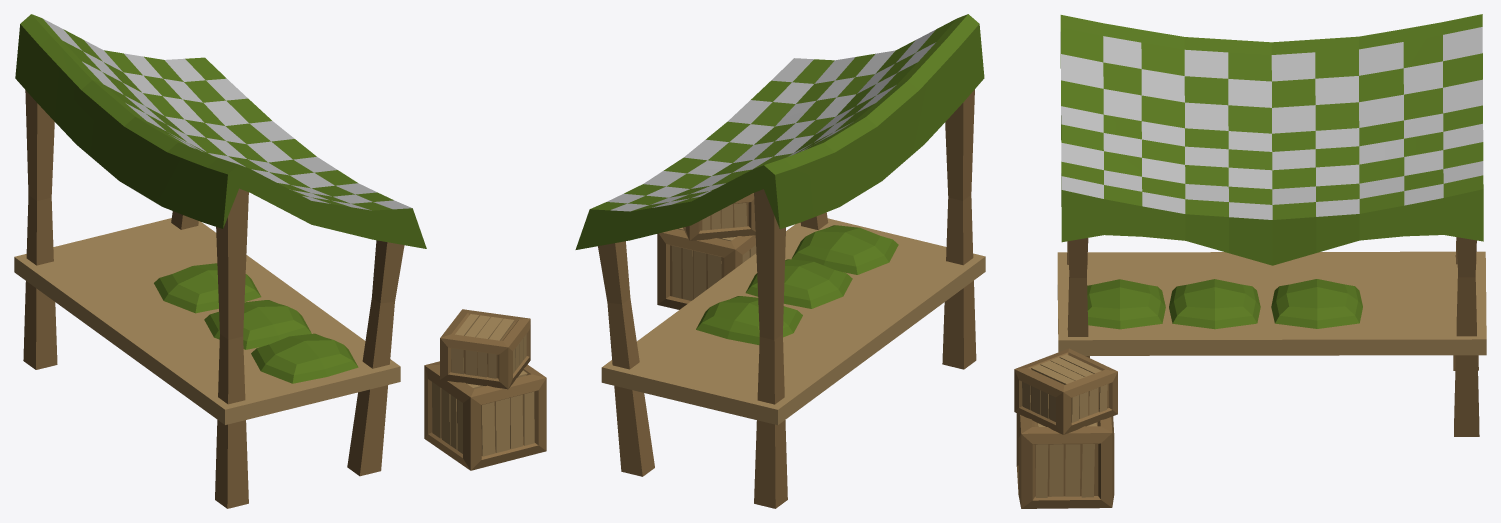
The model's file is stand1.glb.
3 renders of one model, left to right at view 1: azimuth 30°, elevation 25°; view 2: azimuth 150°, elevation 25°; view 3: azimuth 270°, elevation 25°, orthographic. The views are drawn at different scales.
Parts seen in each view (by area): view 1: Market_FirstAge_Level3; view 2: Market_FirstAge_Level3; view 3: Market_FirstAge_Level3.
Part boxes in pixels (bbox=[...]): Market_FirstAge_Level3: bbox=[14, 14, 546, 508]; Market_FirstAge_Level3: bbox=[575, 14, 985, 508]; Market_FirstAge_Level3: bbox=[1014, 14, 1486, 508].
Bounding box in the file's own units: 0.5208 × 0.5526 × 0.6711.
